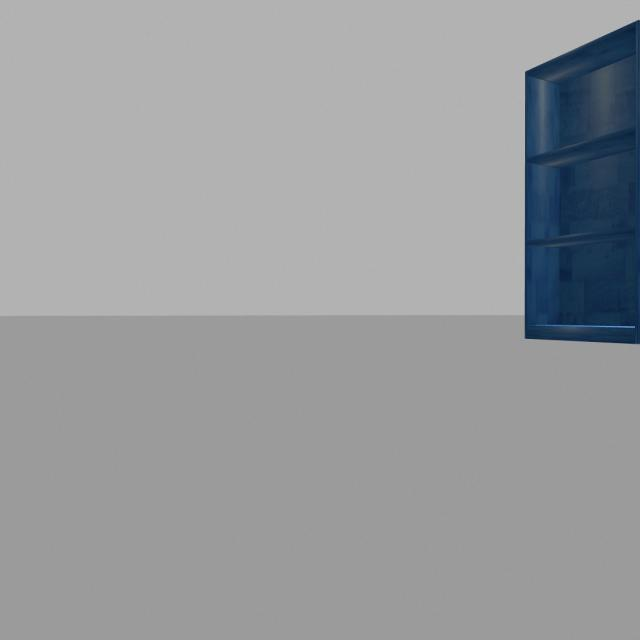shelf: (513, 18, 640, 360)
